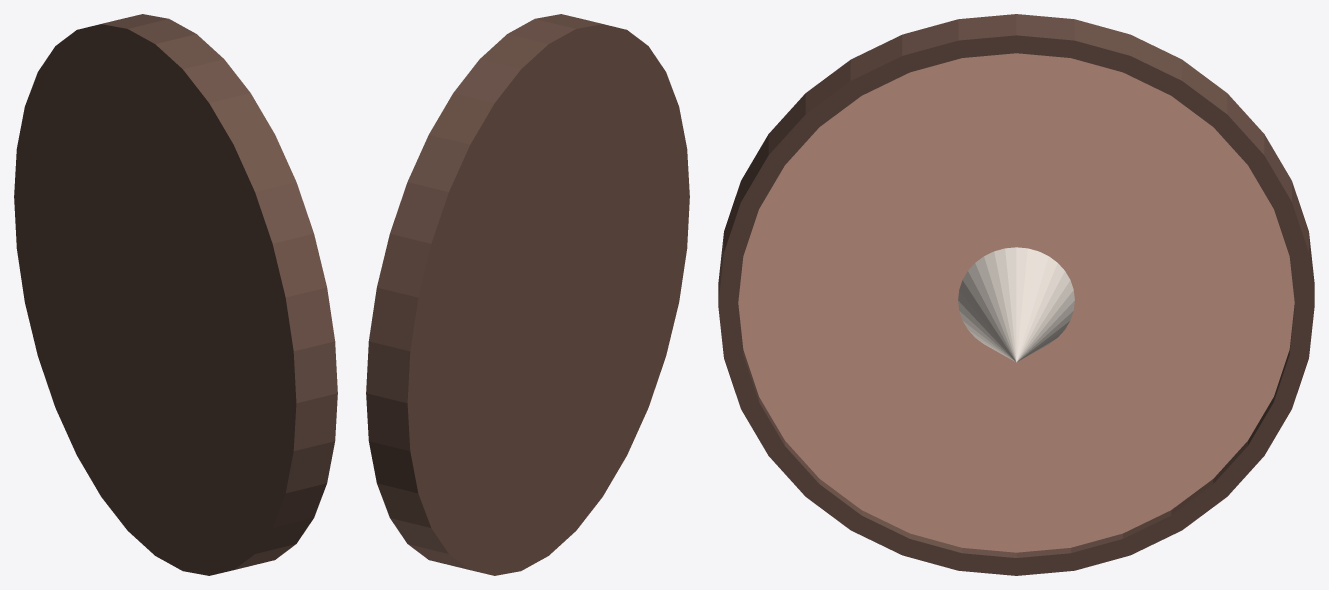
Rendered from GoblinShield.fbx.
3 views of the same model, side by side, from view 1: azimuth 30°, elevation 25°; view 2: azimuth 150°, elevation 25°; view 3: azimuth 270°, elevation 25° (orthographic). The views are drawn at different scales.
Parts seen in each view (by area): view 1: Shield; view 2: Shield; view 3: Shield.
Boxes of the visible parts, x1=… form: Shield: x1=14, y1=14, x2=337, y2=575; Shield: x1=366, y1=14, x2=689, y2=575; Shield: x1=718, y1=14, x2=1314, y2=575.
Bounding box in the file's own units: 22 × 70.9 × 70.9.
